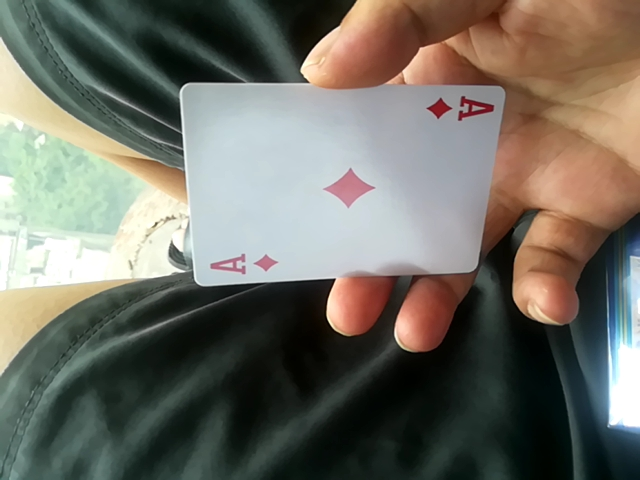fk a: (175, 80, 504, 297)
